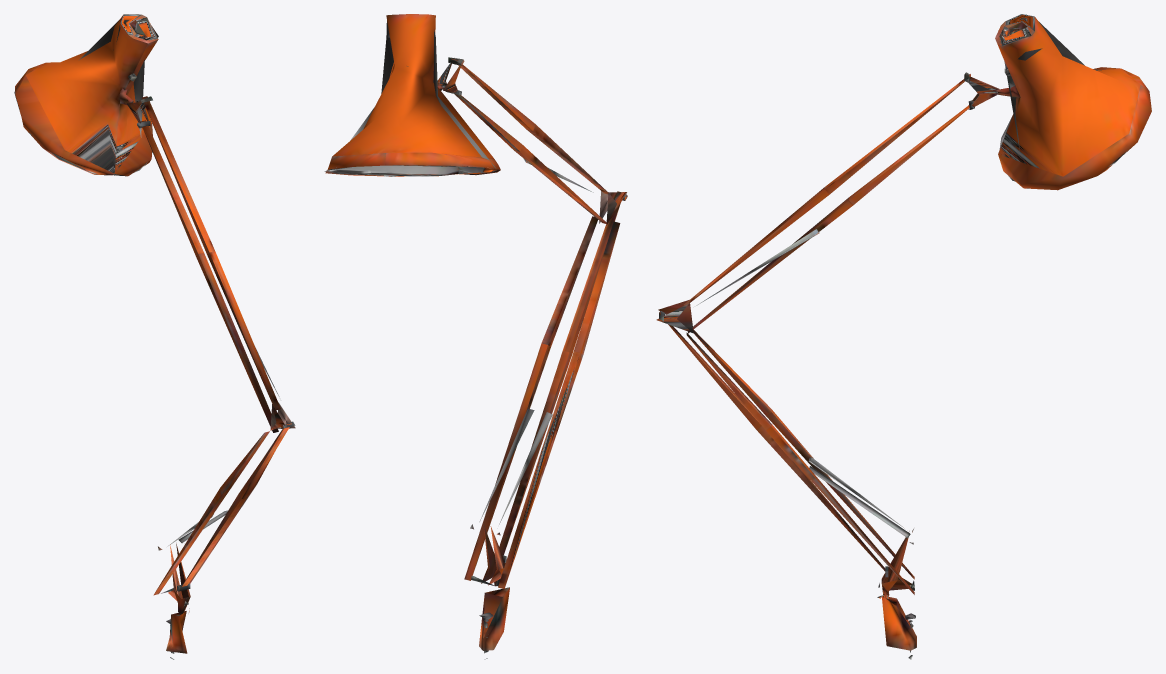
Rendered from desk_lamp.glb.
The picture shows the model from 3 angles, left to right: view 1: azimuth 30°, elevation 25°; view 2: azimuth 150°, elevation 25°; view 3: azimuth 270°, elevation 25°; orthographic projection. The views are drawn at different scales.
Visible parts, largest first — view 1: desk_lamp; view 2: desk_lamp; view 3: desk_lamp.
Part boxes in pixels (x1,y1,x2,y2): desk_lamp: (14,14,295,659); desk_lamp: (324,14,627,659); desk_lamp: (656,14,1151,659).
Bounding box in the file's own units: 0.2 × 0.8829 × 0.6132.
1 material, 1 textured.
